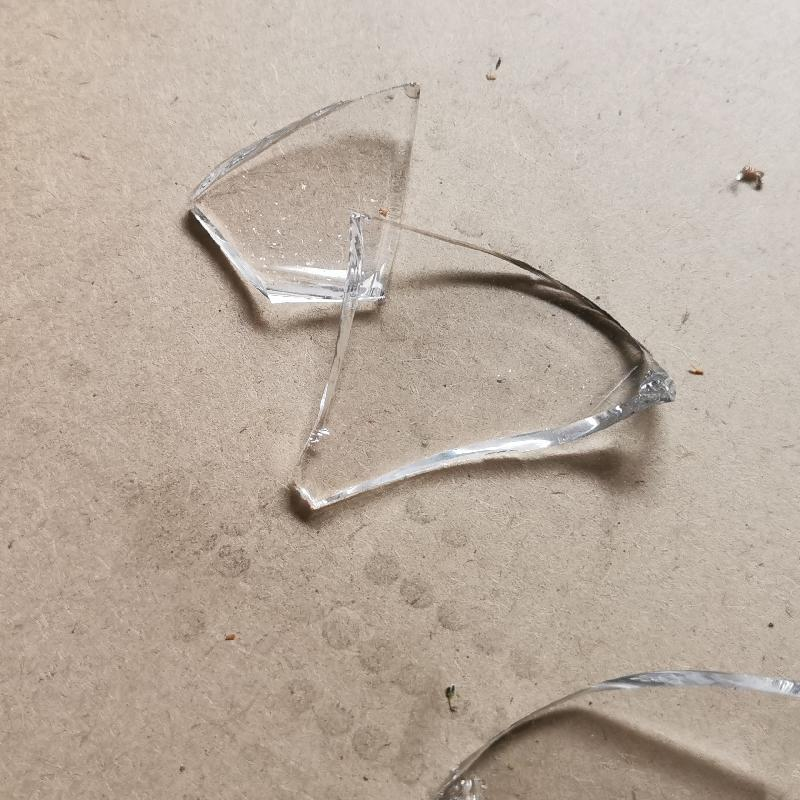glass: (199, 78, 660, 519), (419, 660, 800, 800)
